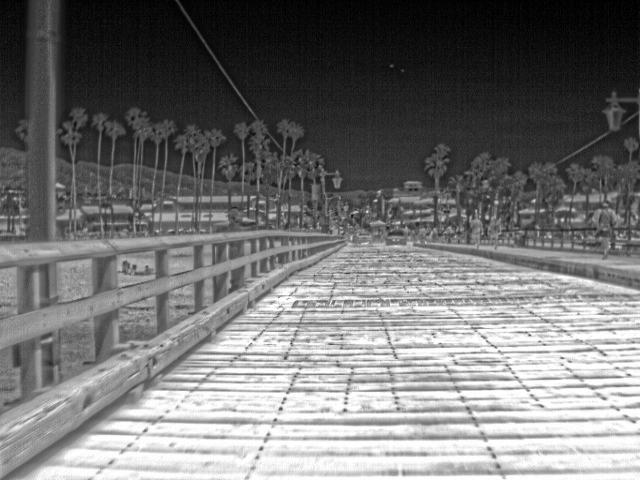car: (383, 228, 407, 246), (353, 227, 374, 244)
person: (599, 203, 619, 255), (471, 212, 487, 246), (482, 216, 497, 246)
